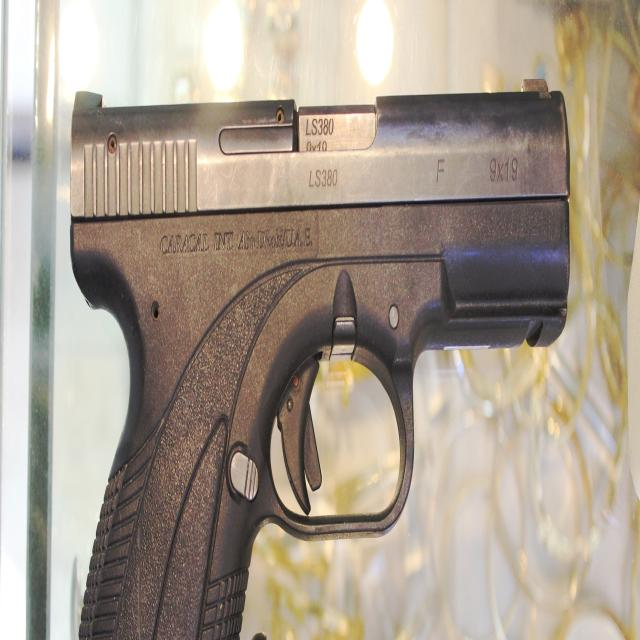Gun: (45, 72, 580, 640)
